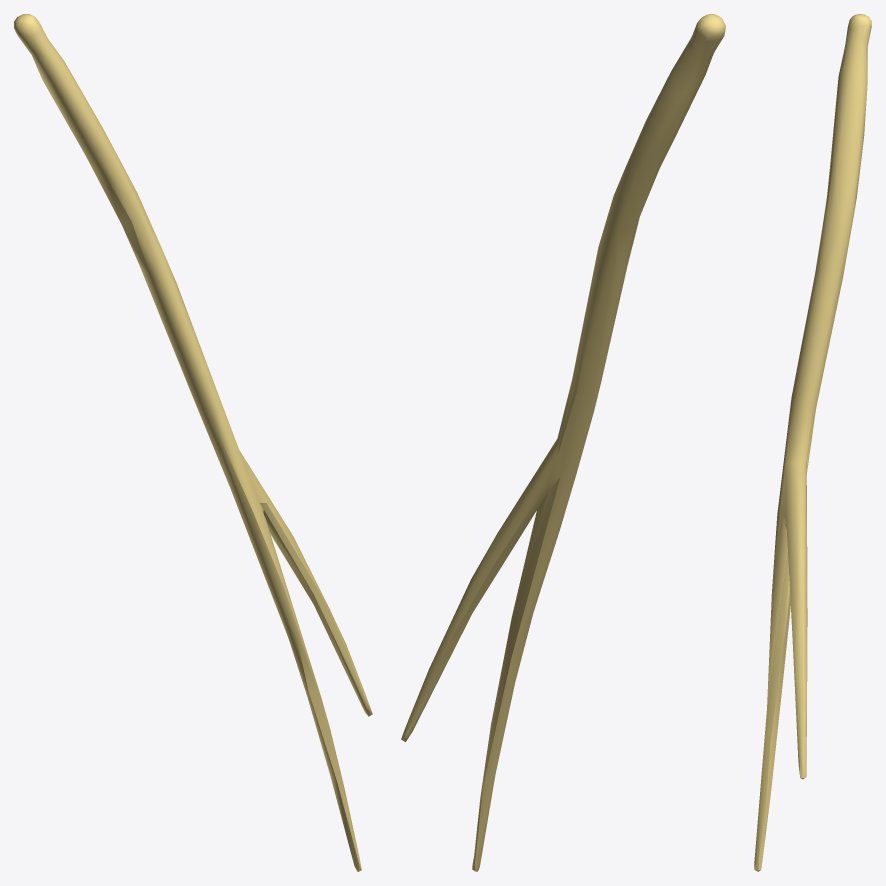
File: fma65326_fj4158.glb
The picture shows the model from 3 angles, left to right: view 1: azimuth 30°, elevation 25°; view 2: azimuth 150°, elevation 25°; view 3: azimuth 270°, elevation 25°; orthographic projection. The views are drawn at different scales.
Parts seen in each view (by area): view 1: FMA65326_FJ4158; view 2: FMA65326_FJ4158; view 3: FMA65326_FJ4158.
Boxes of the visible parts, x1,y1,x2,y2 form: FMA65326_FJ4158: (14, 14, 372, 871); FMA65326_FJ4158: (401, 14, 725, 871); FMA65326_FJ4158: (754, 14, 871, 871).
Bounding box in the file's own units: 0.0255 × 0.0665 × 0.00952.
